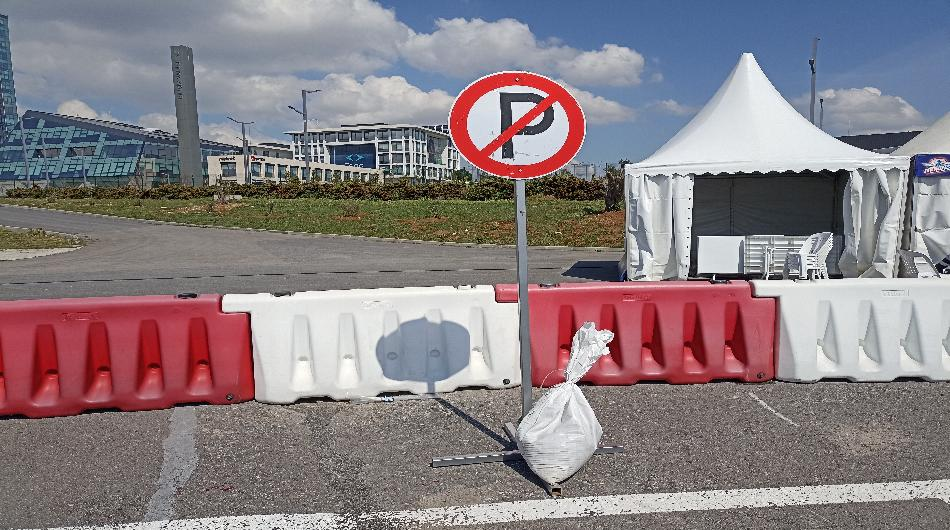park_yapilmaz_3: (448, 79, 593, 199)
